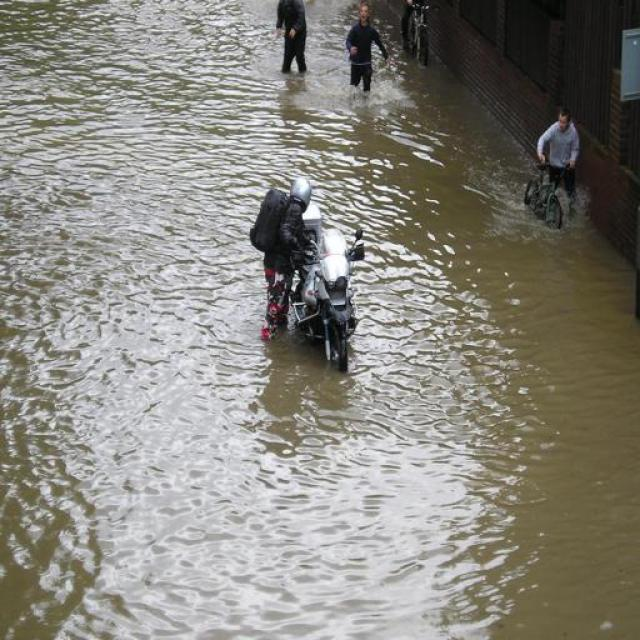puddle: (2, 404, 640, 640), (3, 3, 263, 523), (344, 113, 538, 528), (476, 247, 640, 519)
